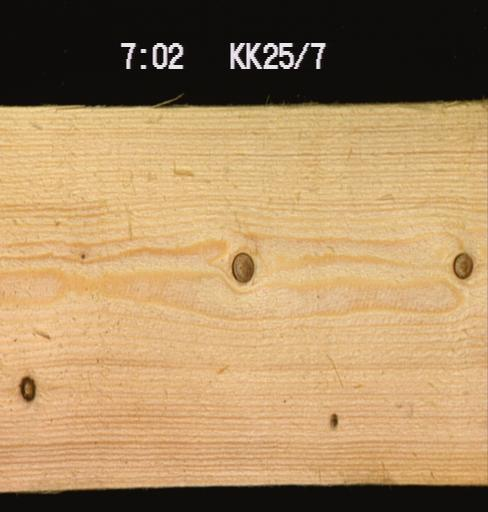dry_knot: (228, 249, 255, 285), (449, 248, 474, 280), (15, 373, 38, 403)
small_knot: (324, 409, 340, 429)
